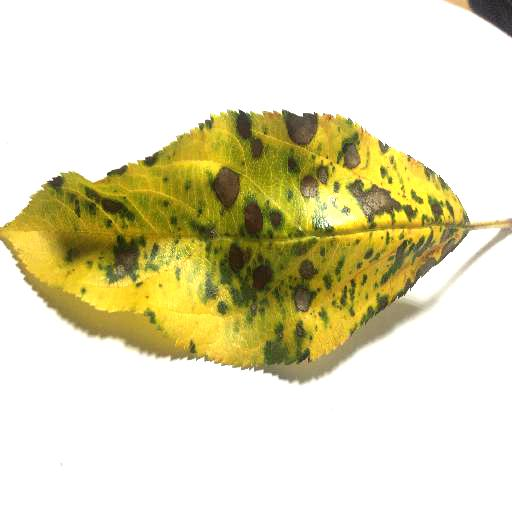Brown_Spot: (397, 244, 464, 281), (344, 180, 398, 211), (88, 190, 125, 218), (282, 118, 318, 144), (214, 173, 240, 207), (333, 143, 364, 164), (115, 247, 142, 270), (229, 246, 248, 275), (258, 263, 275, 290), (249, 142, 268, 165), (243, 210, 262, 230), (239, 114, 253, 140), (436, 197, 452, 219), (293, 178, 315, 190), (296, 293, 310, 307), (318, 171, 331, 183), (302, 265, 316, 276)
